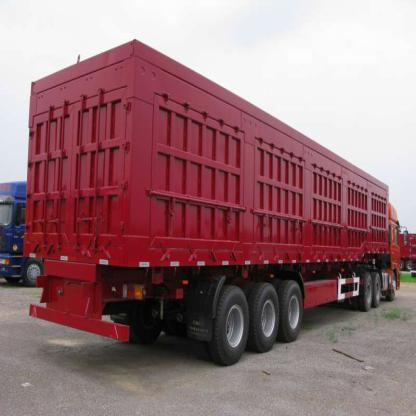normal-truck: (20, 38, 415, 374)
